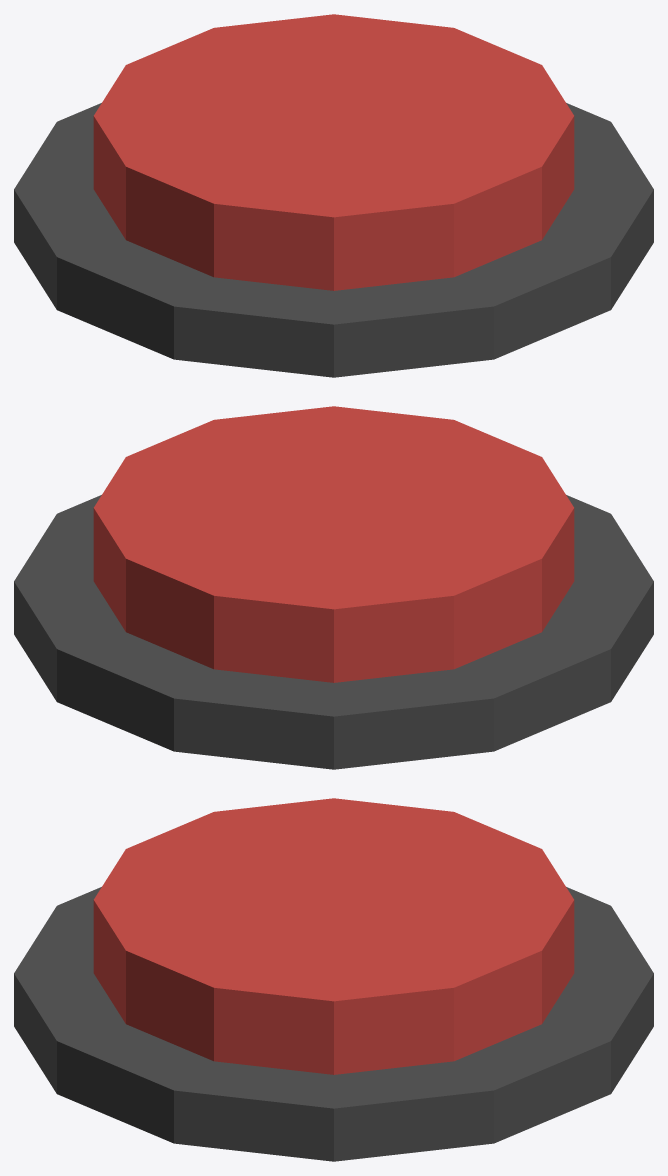
The model's file is button.fbx.
The picture shows the model from 3 angles, top to bottom: view 1: azimuth 30°, elevation 25°; view 2: azimuth 150°, elevation 25°; view 3: azimuth 270°, elevation 25°; orthographic projection.
Parts seen in each view (by area): view 1: Circle.001, Circle; view 2: Circle.001, Circle; view 3: Circle.001, Circle.
Boxes of the visible parts, x1,y1,x2,y2 form: Circle.001: [93, 14, 574, 290]; Circle: [14, 103, 653, 377]; Circle.001: [93, 406, 574, 682]; Circle: [14, 495, 653, 769]; Circle.001: [93, 798, 574, 1074]; Circle: [14, 887, 653, 1161].
Size of the model in its own units: 200 by 43.68 by 200.
